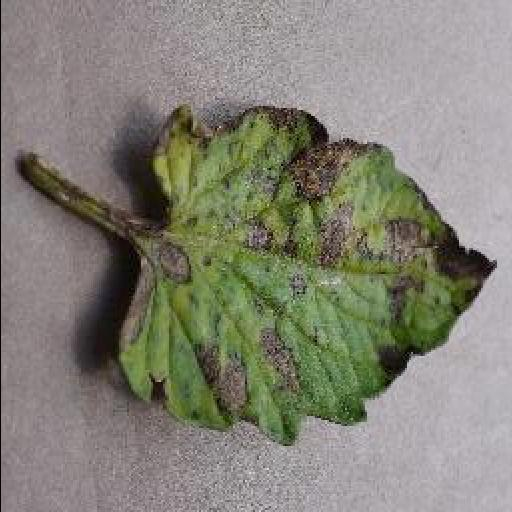disease_tomato: (110, 98, 498, 451)
